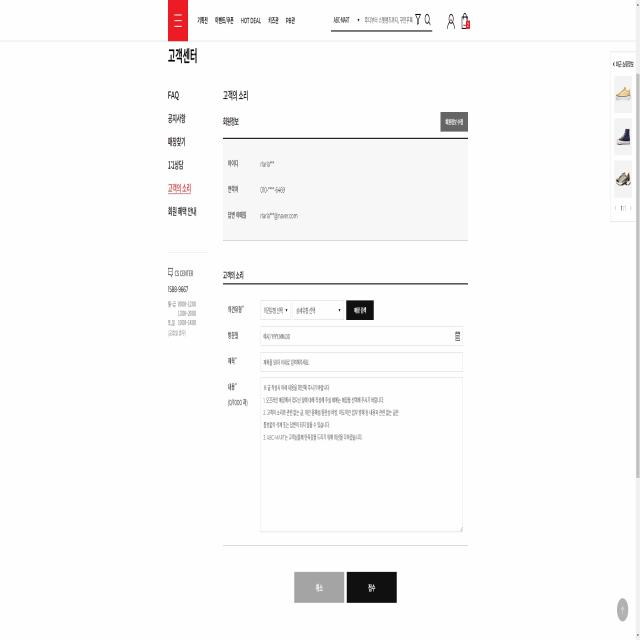menu-bar: (444, 8, 472, 34)
menu-panel: (165, 43, 209, 254)
search: (328, 8, 434, 33)
